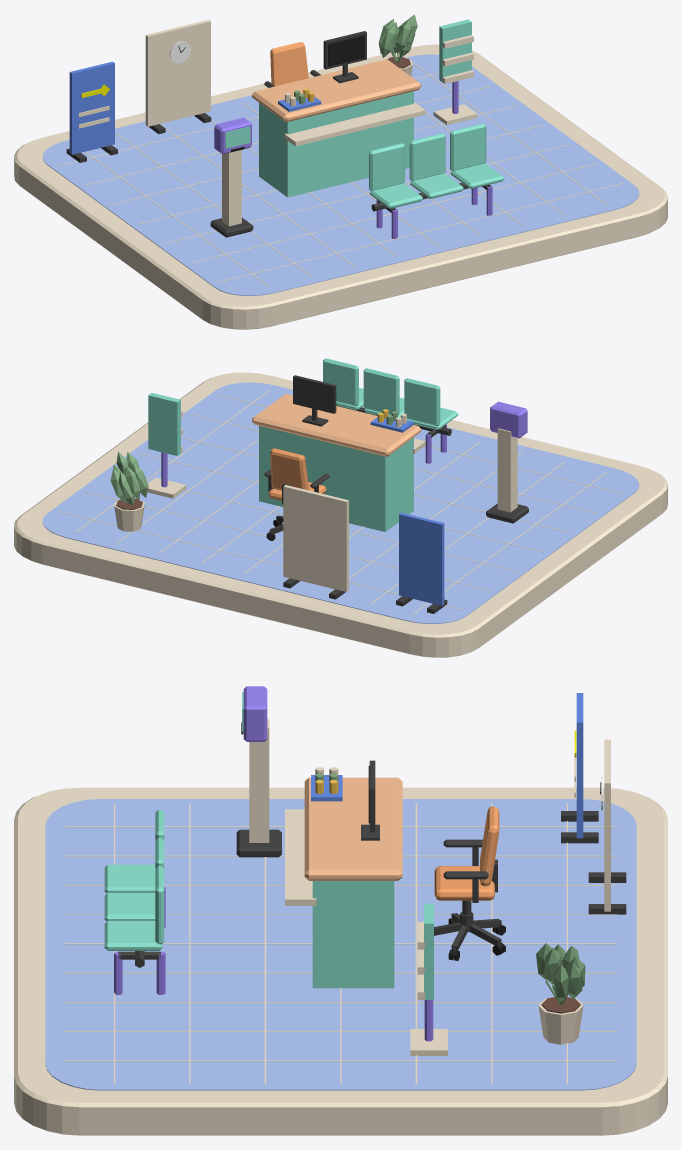
The picture shows the model from 3 angles, top to bottom: view 1: azimuth 30°, elevation 25°; view 2: azimuth 150°, elevation 25°; view 3: azimuth 270°, elevation 25°; orthographic projection. The views are drawn at different scales.
Visible parts, largest first — view 1: COM-02 Floor Surface, COM-01 Rounded Base Direct, Counter body, Panel.001, Countertop, Panel, Visitor shelf, Frame, Back.001, Back.002, COM-04_Chair_blender_direct, Back (+11 smaller); view 2: COM-02 Floor Surface, COM-01 Rounded Base Direct, Counter body, Panel.001, Countertop, Panel, Pot, COM-04_Chair_blender_direct, Pedestal, Frame, Back, Back.001 (+7 smaller); view 3: COM-02 Floor Surface, COM-01 Rounded Base Direct, Countertop, Counter body, COM-04_Chair_blender_direct, Pot, Pedestal, Visitor shelf, Seat.002, Seat, Seat.001, Display housing (+13 smaller).
Part boxes in pixels (x1,y1,x2,y2): COM-02 Floor Surface: (42, 54, 639, 295); COM-01 Rounded Base Direct: (14, 44, 667, 329); Counter body: (259, 91, 413, 197); Panel.001: (145, 19, 210, 126); Countertop: (252, 59, 421, 122); Panel: (69, 61, 114, 154); Visitor shelf: (284, 102, 425, 146); Frame: (323, 31, 366, 83); Back.001: (409, 133, 445, 180); Back.002: (450, 123, 486, 170); COM-04_Chair_blender_direct: (264, 42, 320, 87); Back: (369, 143, 404, 190); COM-02 Floor Surface: (42, 382, 639, 623); COM-01 Rounded Base Direct: (14, 372, 667, 657); Counter body: (259, 425, 413, 531); Panel.001: (283, 485, 348, 591); Countertop: (252, 393, 421, 456); Panel: (399, 512, 444, 605); Pot: (110, 451, 148, 531); COM-04_Chair_blender_direct: (264, 448, 329, 540); Pedestal: (497, 428, 517, 512); Frame: (293, 375, 336, 426); Back: (404, 378, 440, 426); Back.001: (363, 368, 399, 415); COM-02 Floor Surface: (45, 799, 636, 1090); COM-01 Rounded Base Direct: (14, 787, 667, 1135); Countertop: (304, 777, 402, 880); Counter body: (312, 881, 394, 988); COM-04_Chair_blender_direct: (434, 806, 505, 960); Pot: (536, 943, 585, 1044); Pedestal: (249, 719, 269, 842); Visitor shelf: (285, 809, 316, 905); Seat.002: (104, 921, 162, 950); Seat: (104, 864, 155, 893); Seat.001: (104, 893, 155, 921); Display housing: (243, 686, 267, 741).
Size of the model in its own units: 6 by 1.87 by 5.2.
Materials: 1 (1 with a texture image).
